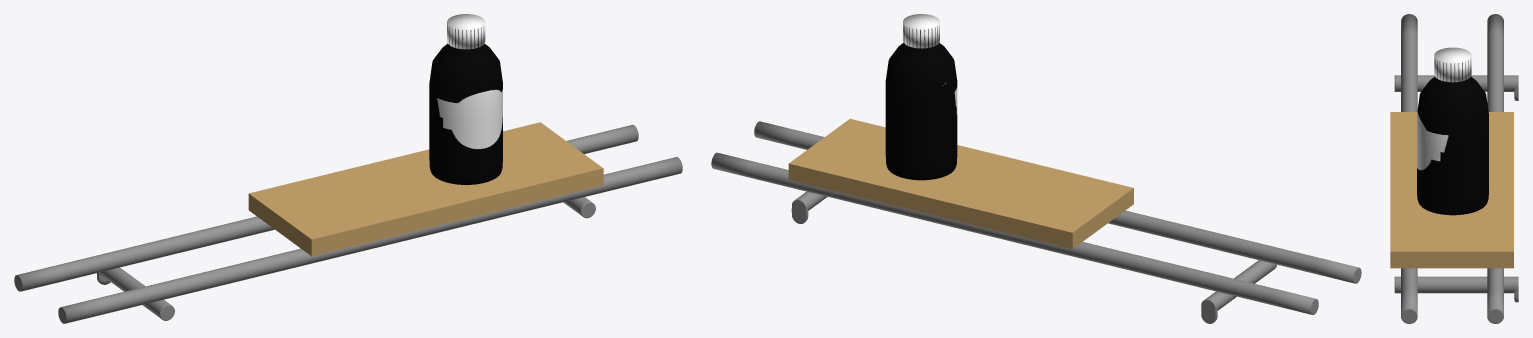
File: com_bath.fbx
3 views of the same model, side by side, from view 1: azimuth 30°, elevation 25°; view 2: azimuth 150°, elevation 25°; view 3: azimuth 270°, elevation 25° (orthographic). The views are drawn at different scales.
Visible parts, largest first — view 1: estanteria_madera_Cube.001, estanteria_metal_Cylinder.003, botella_jabon_liq_Cylinder, tap_jabon_liq_Cylinder.001; view 2: estanteria_madera_Cube.001, estanteria_metal_Cylinder.003, botella_jabon_liq_Cylinder, tap_jabon_liq_Cylinder.001; view 3: estanteria_madera_Cube.001, botella_jabon_liq_Cylinder, estanteria_metal_Cylinder.003, tap_jabon_liq_Cylinder.001.
Part boxes in pixels (x1,y1,x2,y2): estanteria_madera_Cube.001: (248, 122, 603, 256); estanteria_metal_Cylinder.003: (14, 124, 682, 323); botella_jabon_liq_Cylinder: (429, 43, 502, 184); tap_jabon_liq_Cylinder.001: (447, 14, 485, 49); estanteria_madera_Cube.001: (788, 118, 1133, 248); estanteria_metal_Cylinder.003: (711, 121, 1361, 323); botella_jabon_liq_Cylinder: (885, 43, 957, 180); tap_jabon_liq_Cylinder.001: (903, 14, 939, 48); estanteria_madera_Cube.001: (1390, 112, 1513, 268); botella_jabon_liq_Cylinder: (1417, 76, 1488, 215); estanteria_metal_Cylinder.003: (1394, 14, 1518, 323); tap_jabon_liq_Cylinder.001: (1434, 47, 1471, 82).
Size of the model in its own units: 122 by 38.85 by 22.35.
Materials: 5 (3 with a texture image).
